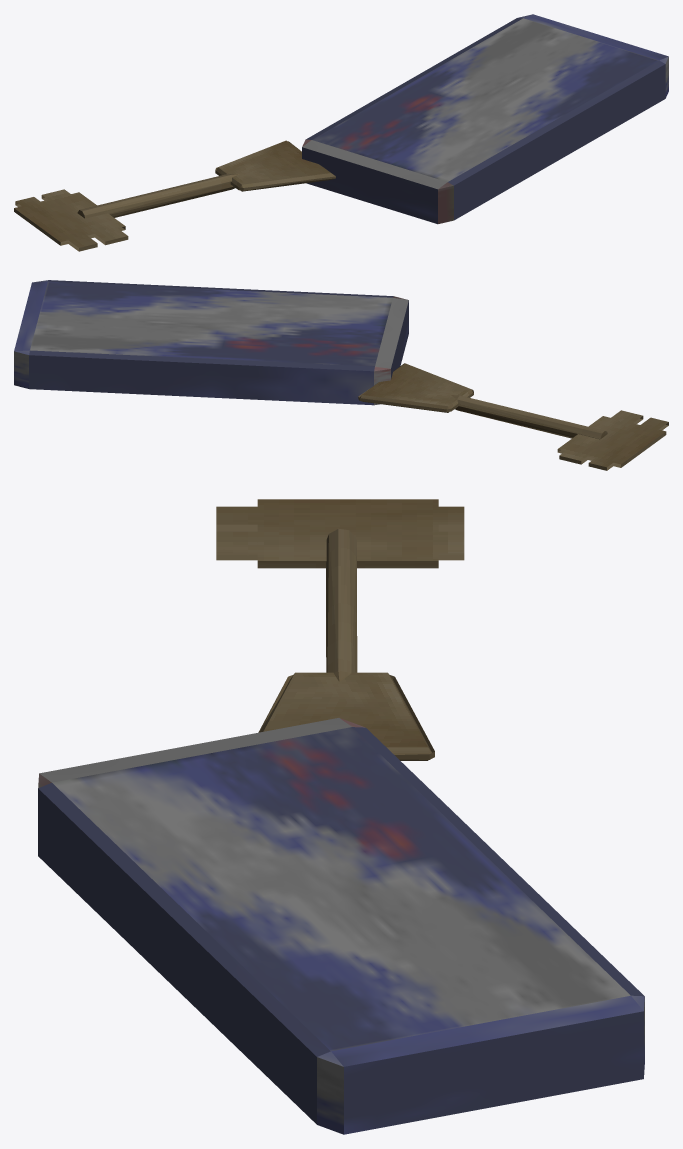
Rendered from LlaveAulas.obj.
3 renders of one model, top to bottom at view 1: azimuth 30°, elevation 25°; view 2: azimuth 150°, elevation 25°; view 3: azimuth 270°, elevation 25°, orthographic. The views are drawn at different scales.
Visible parts, largest first — view 1: Cube.002, Cube.001, Cube, Cylinder; view 2: Cube.002, Cube.001, Cube, Cylinder; view 3: Cube.002, Cube.001, Cube, Cylinder.
Part boxes in pixels (box(x1,y1,x2,y2)): Cube.002: box(302, 14, 668, 224); Cube.001: box(14, 189, 128, 251); Cube: box(215, 140, 335, 191); Cylinder: box(77, 174, 239, 218); Cube.002: box(14, 280, 408, 405); Cube.001: box(557, 410, 668, 470); Cube: box(358, 363, 473, 412); Cylinder: box(451, 395, 607, 439); Cube.002: box(38, 718, 644, 1134); Cube.001: box(216, 499, 464, 568); Cube: box(258, 672, 434, 760); Cylinder: box(326, 528, 357, 681).
Bounding box in the file's own units: 14.89 × 0.8608 × 6.38.
